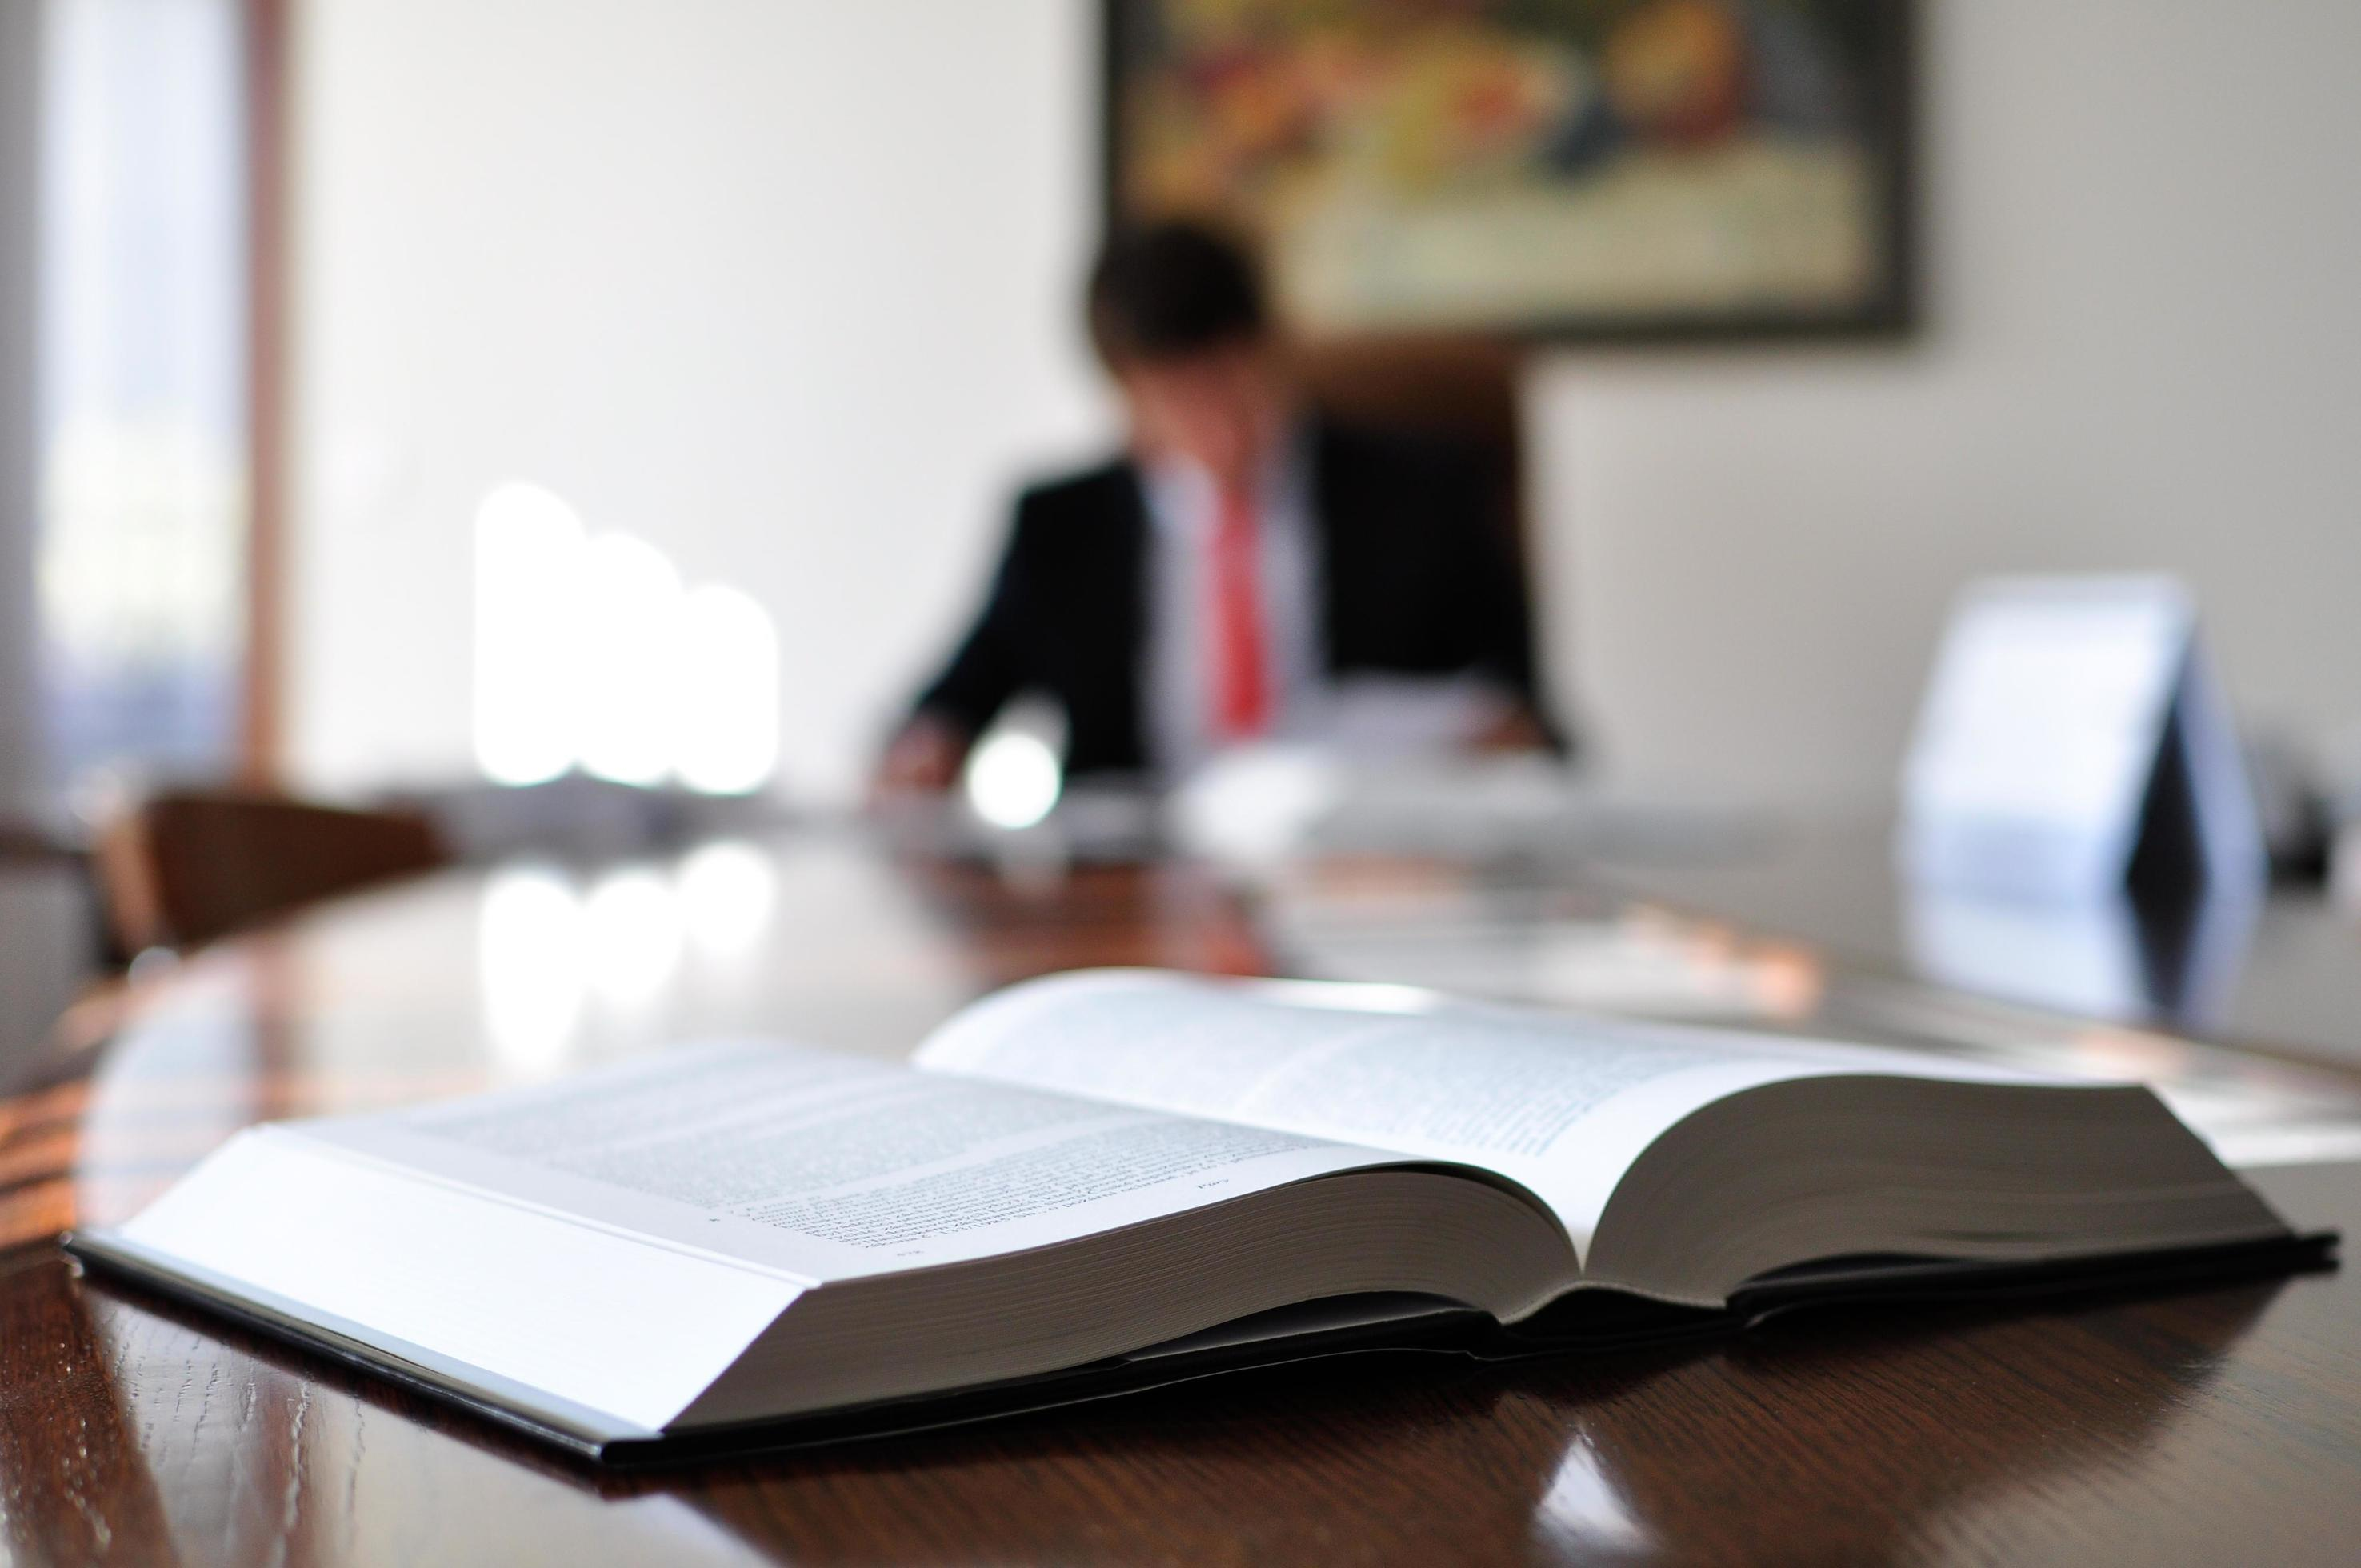Open Book: (117, 940, 2343, 1424)
